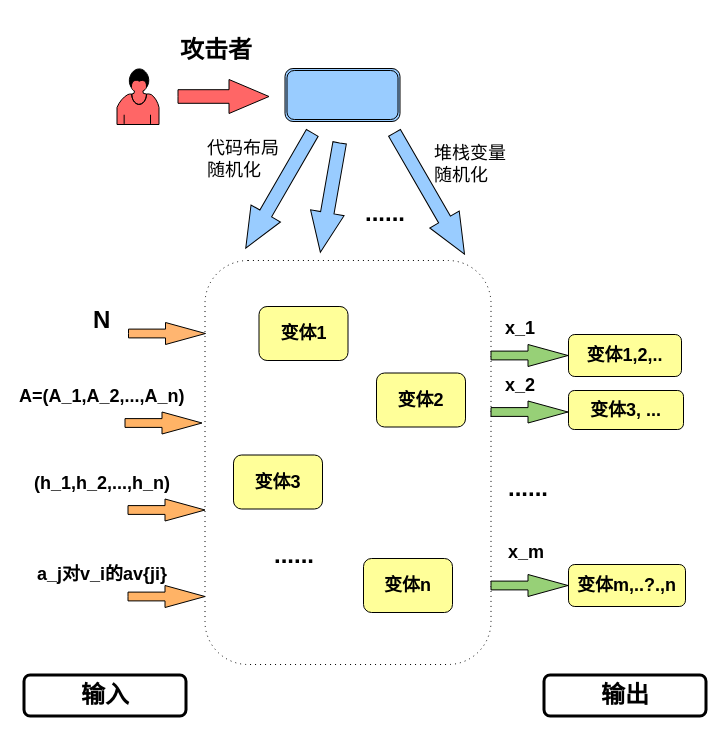
The diagram is 725 pixels wide and 743 high, and some of its shapes have lost their labels. The centre of each missing label's shape, as x and y in pixels:
全局布局 随机化: point 329,197
程序: point 342,95
